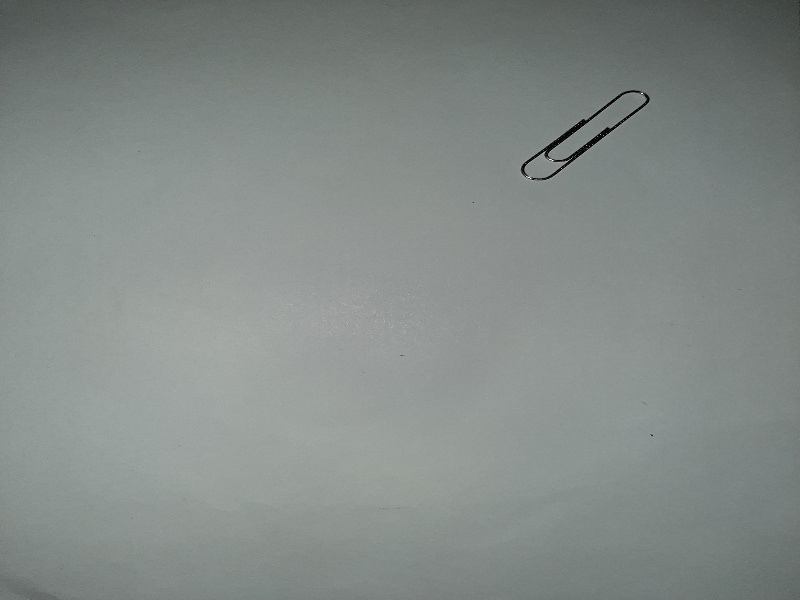Big Jumpclip: (514, 84, 652, 191)
